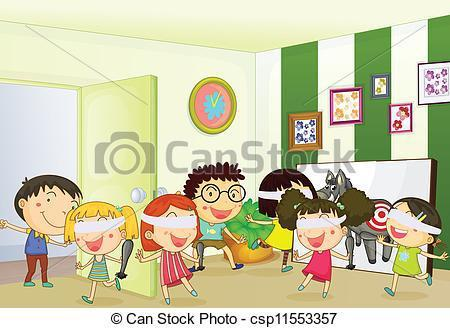person: (273, 187, 378, 299), (1, 174, 84, 290), (63, 199, 145, 306), (180, 159, 250, 275), (246, 168, 318, 277), (137, 190, 204, 304), (376, 195, 441, 300)
pottedplant: (219, 198, 277, 266)
